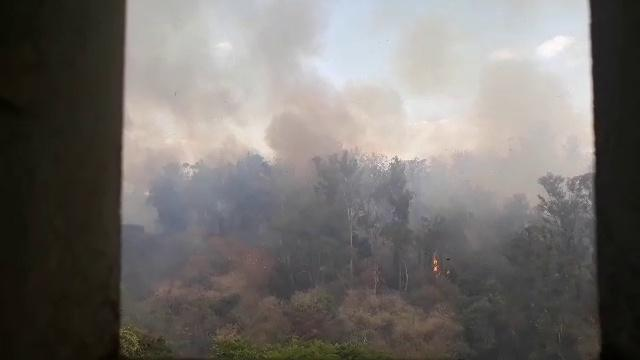smoke: (477, 82, 539, 178), (145, 30, 202, 102)
